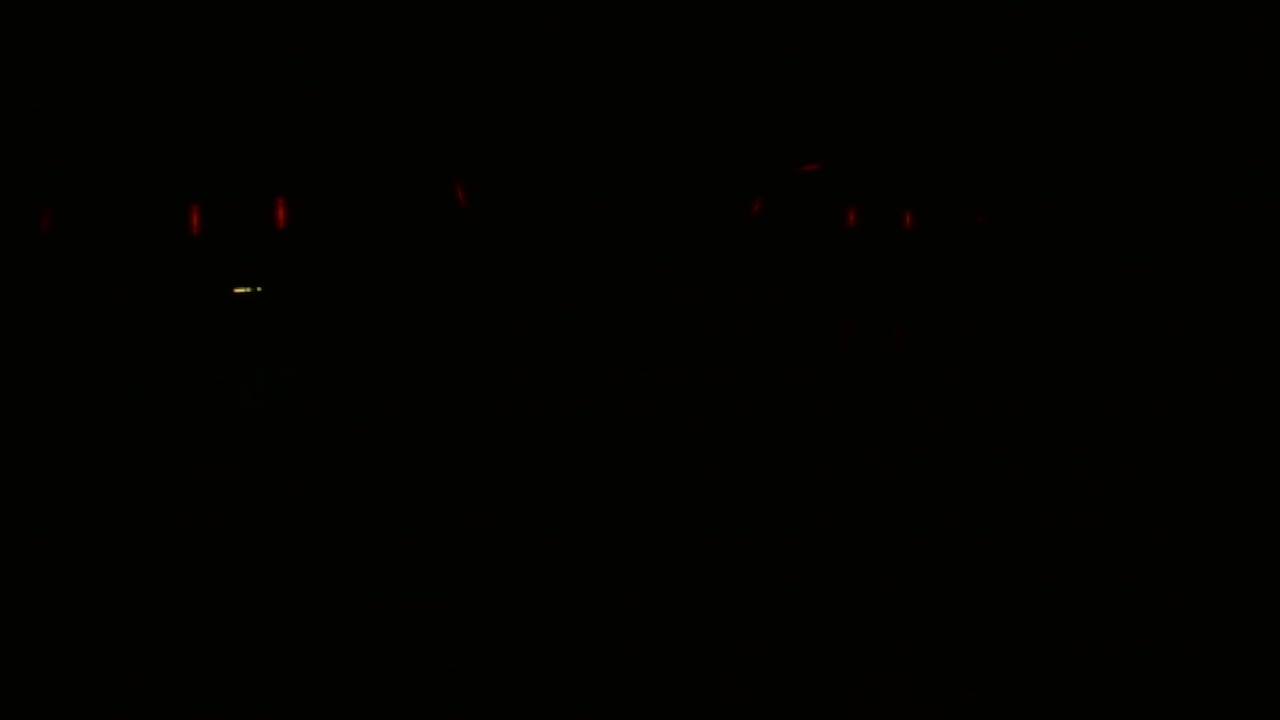pair1: (180, 187, 300, 246), (844, 208, 913, 231)
